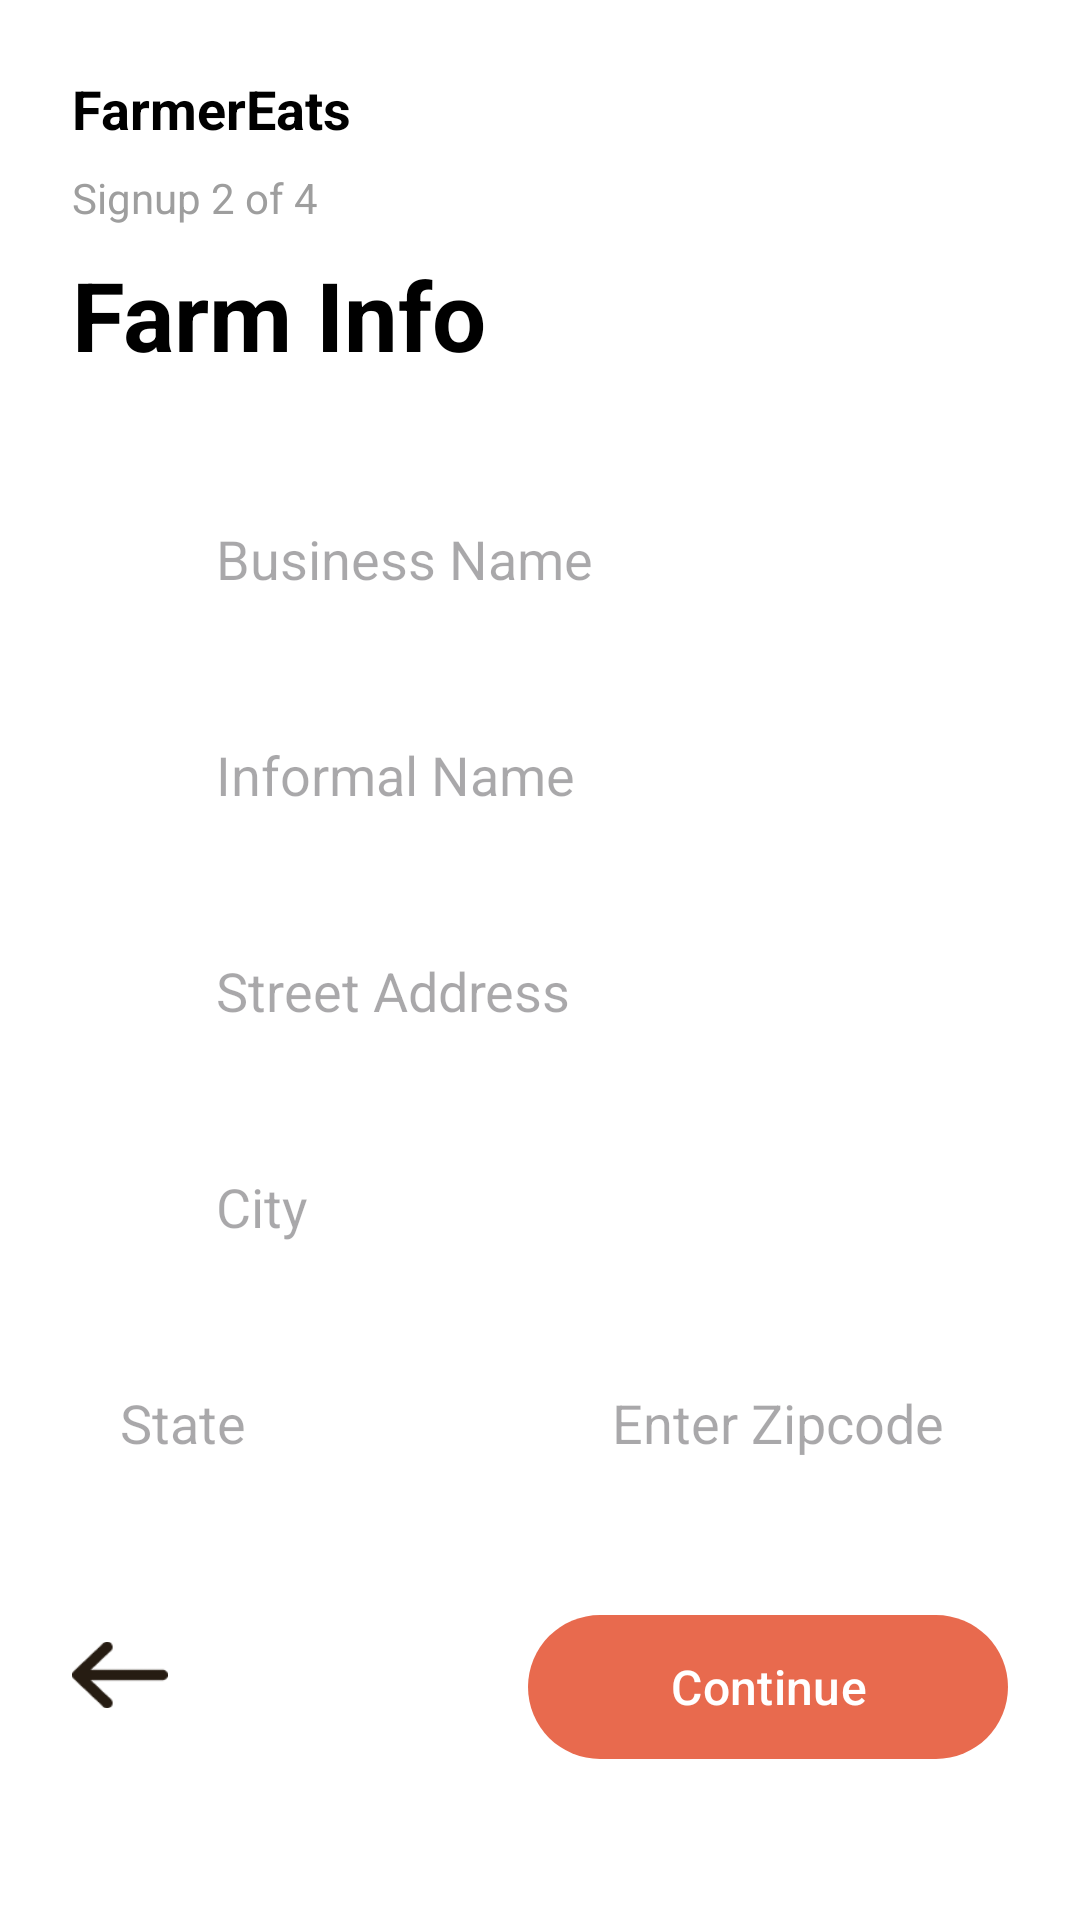

Named icons in this screenshot (1080x1920) and their bounding boxes, detection(x1, y1, x2, y2):
back: detection(72, 1642, 168, 1708)
